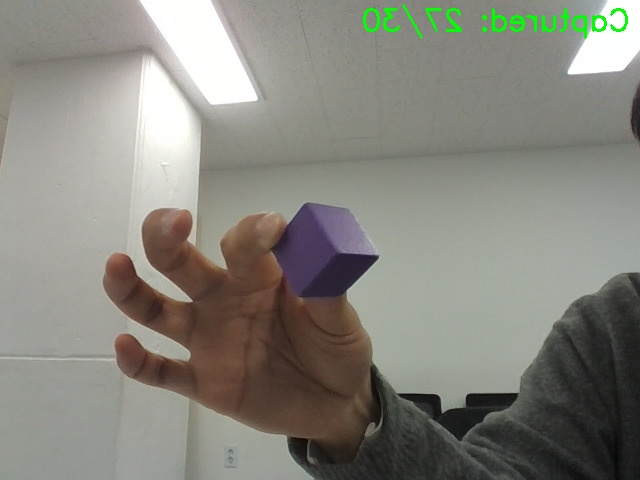Normal: (312, 180, 415, 290)
